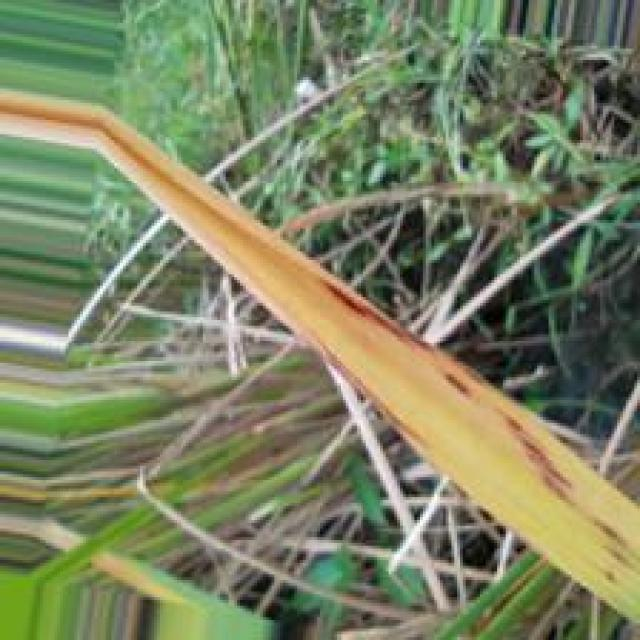Narrow_Brown_Leaf_Spot: (0, 92, 640, 595)
